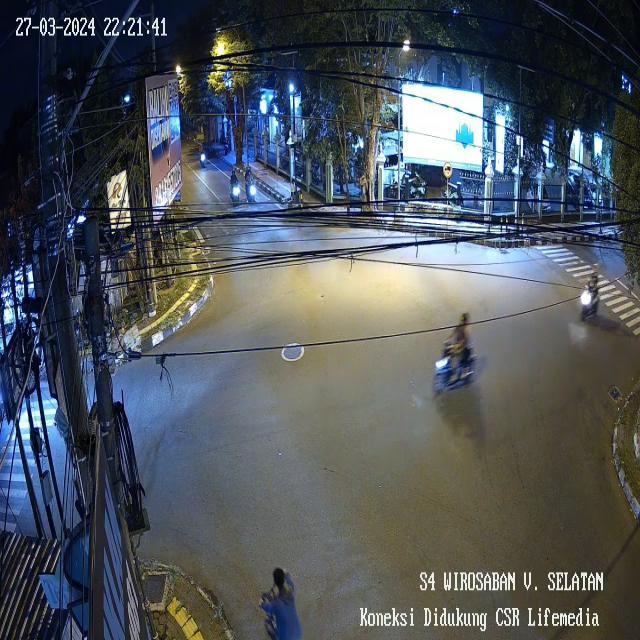motorcycle: (430, 309, 475, 403), (576, 264, 602, 326), (227, 160, 243, 218), (244, 164, 258, 206), (196, 139, 210, 174)
